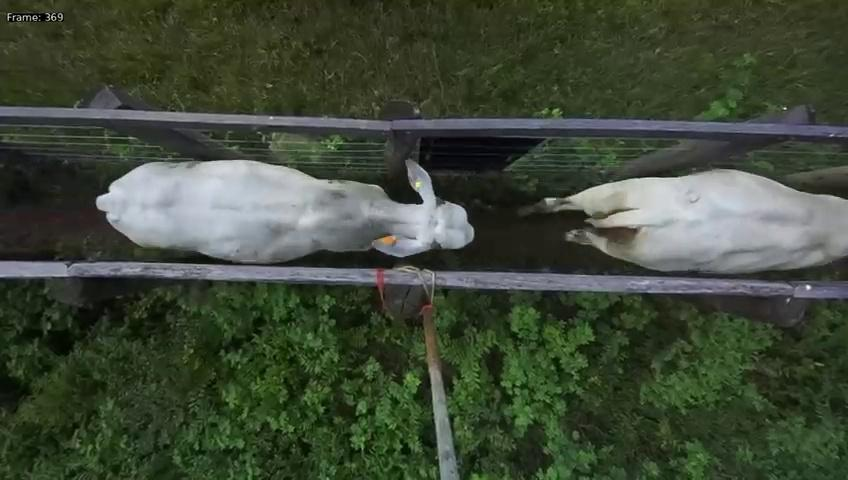cattle: (95, 132, 475, 264)
